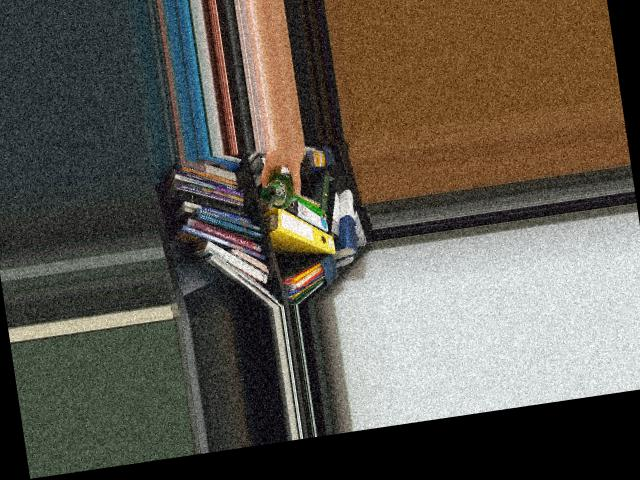beer: (259, 173, 300, 211)
